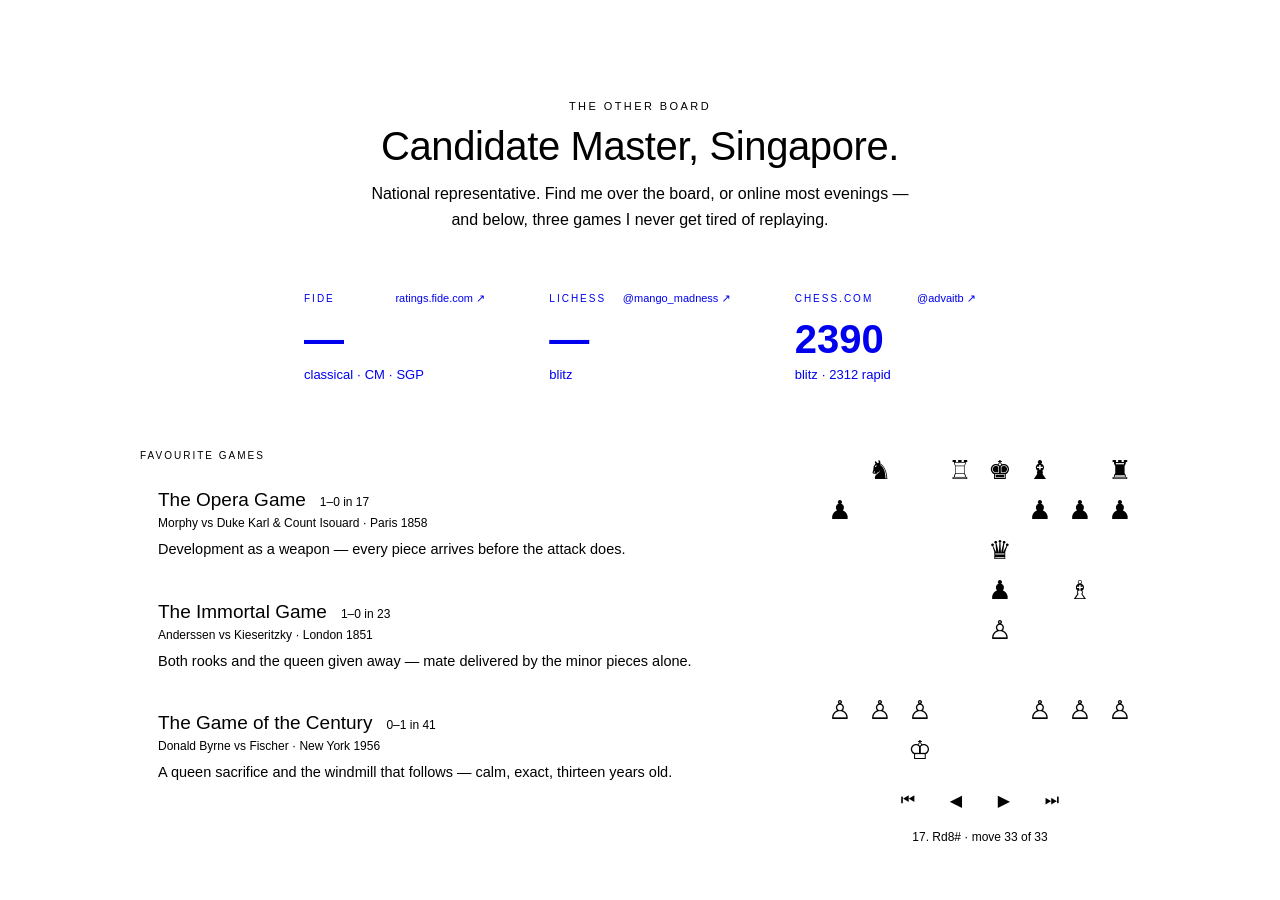
Test case: switching games resets the replay to its final position
Click the button named "Back". click: (956, 800)
box: [938,782,974,818]
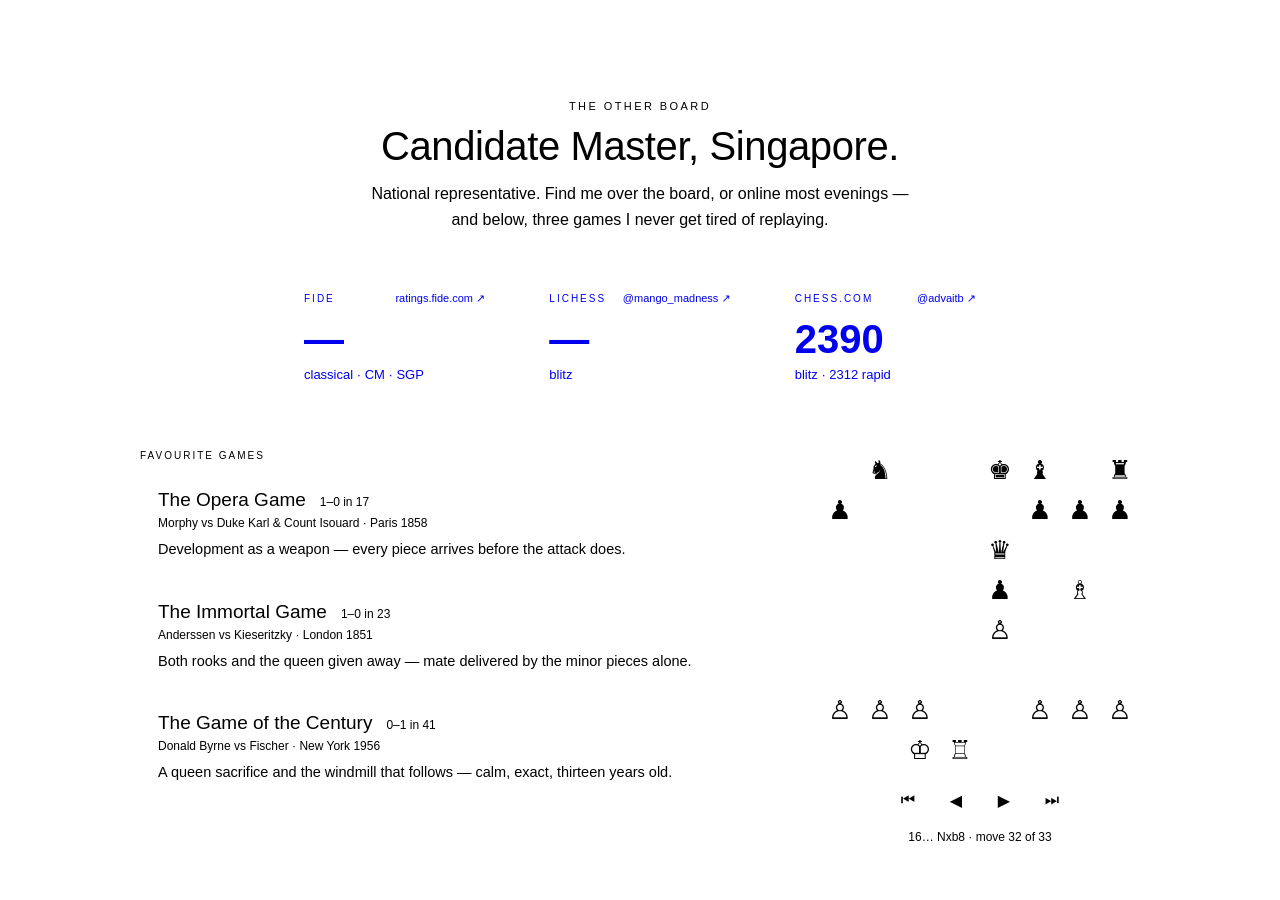
Click the tab "Immortal Game". click: (242, 611)
box: [140,587,780,686]
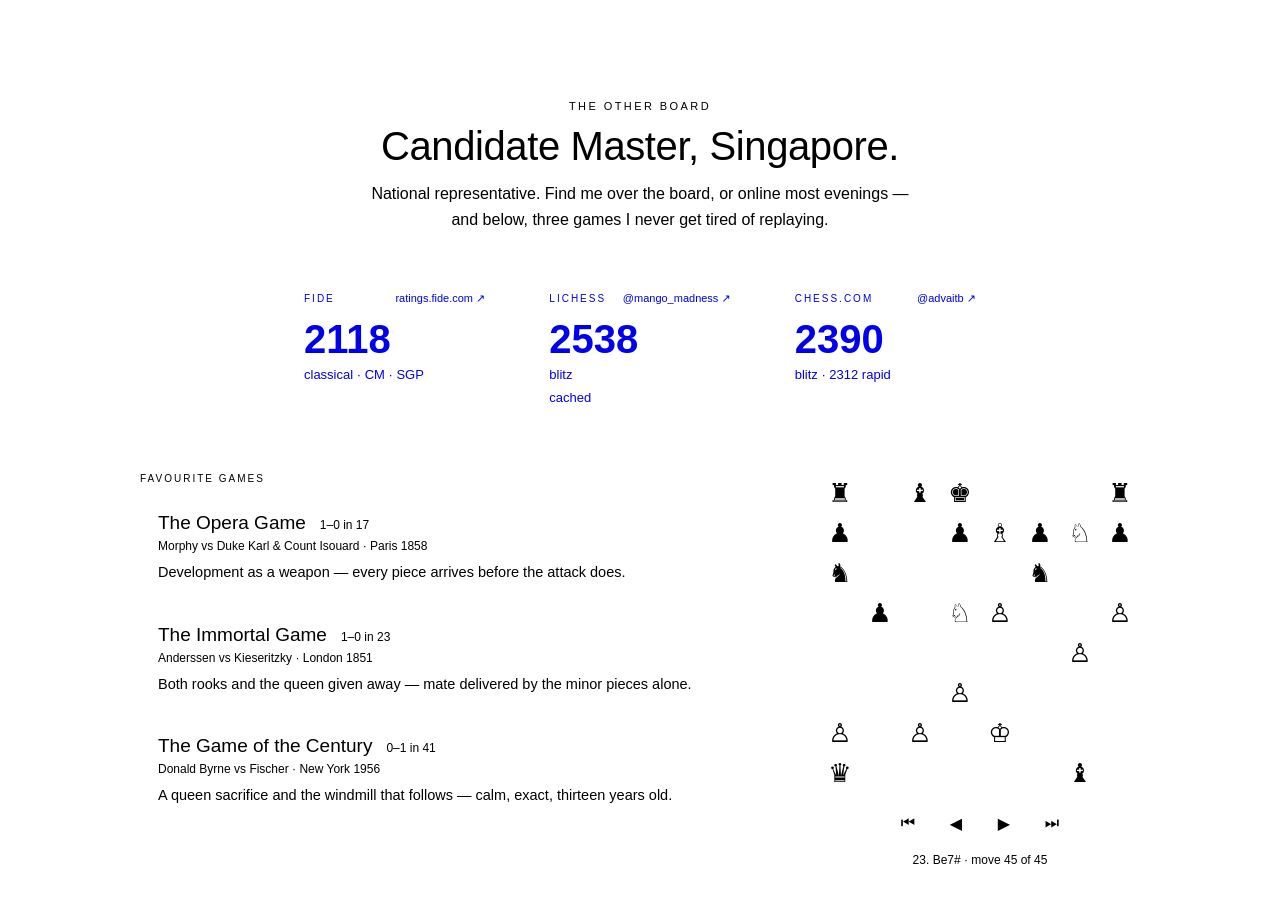
Check: the text "23. Be7# · move 45 of 45" is shown, box [913,853,1047,867]
